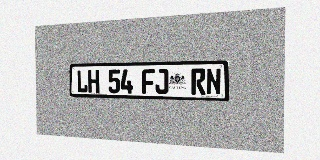4: (120, 69, 133, 93)
5: (108, 69, 120, 93)
F: (142, 69, 155, 94)
H: (88, 70, 99, 93)
J: (155, 69, 168, 94)
L: (77, 70, 88, 93)
N: (206, 68, 221, 95)
R: (191, 68, 206, 95)
